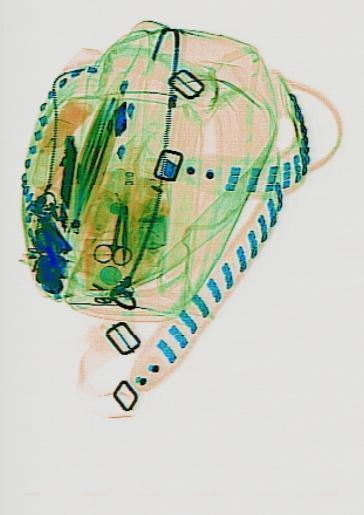Scissors: (92, 208, 138, 271)
